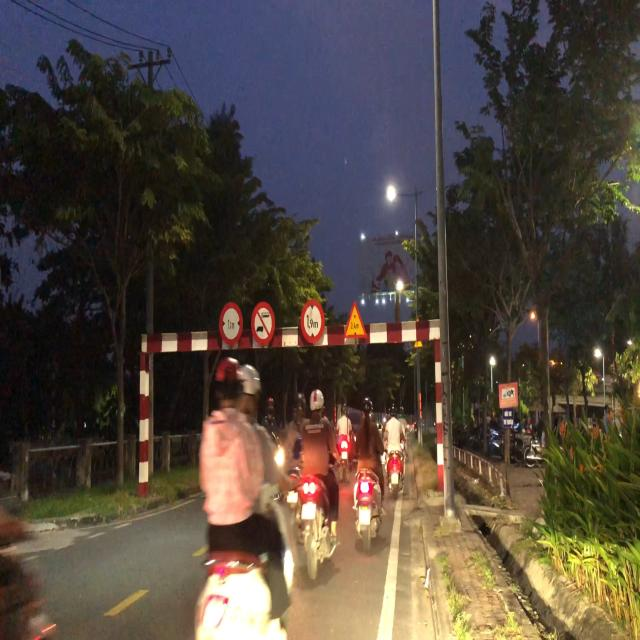Bien bao cam xe oto khach va xe oto tai: (250, 299, 274, 351)
Bien bao chieu cao tinh khong thuc te: (342, 296, 370, 344)
Bien bao han che chieu cao: (300, 298, 327, 346)
